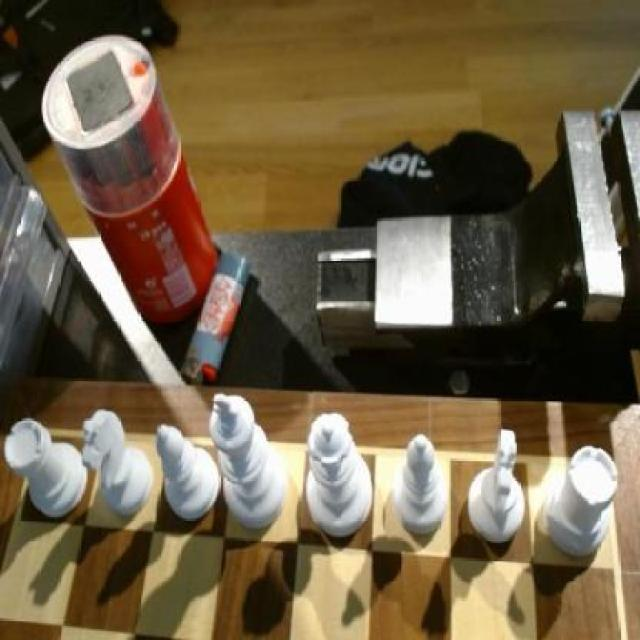black-rook: (391, 426, 454, 545), (157, 420, 223, 525)
white-bishop: (209, 389, 293, 530)
white-king: (464, 426, 528, 554), (83, 408, 155, 516)
white-pawn: (298, 406, 378, 541)
white-queen: (5, 416, 90, 532), (546, 439, 623, 563)
